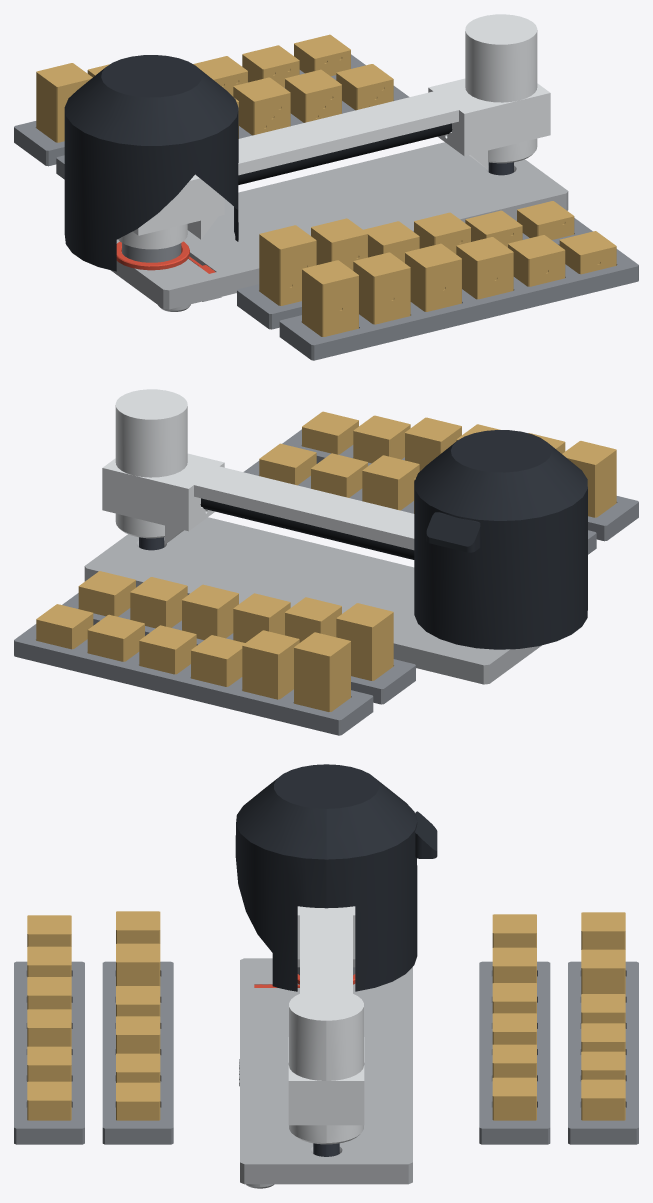
File: assembled.glb
3 views of the same model, one above another, from view 1: azimuth 30°, elevation 25°; view 2: azimuth 150°, elevation 25°; view 3: azimuth 270°, elevation 25° (orthographic). The views are drawn at different scales.
Visible parts, largest first — view 1: knob_hood, gantry_base, yoke, rail_01, piece_a1, piece_b1, piece_a2, piece_a3, piece_a4, piece_d1, piece_c4, piece_c5 (+17 smaller); view 2: knob_hood, gantry_base, yoke, rail_04, piece_d1, piece_c1, piece_d2, piece_c4, piece_a1, piece_b4, piece_c5, piece_d3 (+15 smaller); view 3: knob_hood, gantry_base, yoke, rail_02, rail_03, rail_01, rail_04, piece_d2, piece_c6, piece_b2, piece_d6, piece_a6 (+19 smaller).
Boxes of the visible parts, x1=… form: knob_hood: x1=64, y1=55, x2=238, y2=271; gantry_base: x1=111, y1=142, x2=568, y2=311; yoke: x1=118, y1=14, x2=550, y2=249; rail_01: x1=279, y1=249, x2=638, y2=360; piece_a1: x1=302, y1=260, x2=358, y2=336; piece_b1: x1=259, y1=225, x2=316, y2=305; piece_a2: x1=353, y1=252, x2=410, y2=324; piece_a3: x1=405, y1=243, x2=461, y2=311; piece_a4: x1=456, y1=237, x2=513, y2=299; piece_d1: x1=36, y1=63, x2=92, y2=142; piece_c4: x1=233, y1=77, x2=290, y2=135; piece_c5: x1=285, y1=69, x2=341, y2=122; knob_hood: x1=414, y1=430, x2=587, y2=649; gantry_base: x1=84, y1=517, x2=541, y2=684; yoke: x1=102, y1=389, x2=414, y2=550; rail_04: x1=14, y1=624, x2=373, y2=735; piece_d1: x1=294, y1=632, x2=350, y2=711; piece_c1: x1=336, y1=603, x2=393, y2=680; piece_d2: x1=242, y1=630, x2=299, y2=699; piece_c4: x1=182, y1=584, x2=238, y2=639; piece_a1: x1=562, y1=441, x2=616, y2=517; piece_b4: x1=362, y1=455, x2=419, y2=510; piece_c5: x1=130, y1=577, x2=187, y2=628; piece_d3: x1=191, y1=635, x2=244, y2=686; knob_hood: x1=235, y1=764, x2=437, y2=991; gantry_base: x1=239, y1=958, x2=412, y2=1188; yoke: x1=288, y1=906, x2=364, y2=1144; rail_02: x1=102, y1=961, x2=173, y2=1144; rail_03: x1=479, y1=961, x2=550, y2=1144; rail_01: x1=14, y1=961, x2=84, y2=1144; rail_04: x1=568, y1=961, x2=638, y2=1144; piece_d2: x1=581, y1=949, x2=625, y2=994; piece_c6: x1=492, y1=1077, x2=536, y2=1120; piece_b2: x1=116, y1=943, x2=160, y2=985; piece_d6: x1=581, y1=1079, x2=625, y2=1120; piece_a6: x1=27, y1=1081, x2=71, y2=1120.
Size of the model in its own units: 0.2479 by 0.1059 by 0.282.
